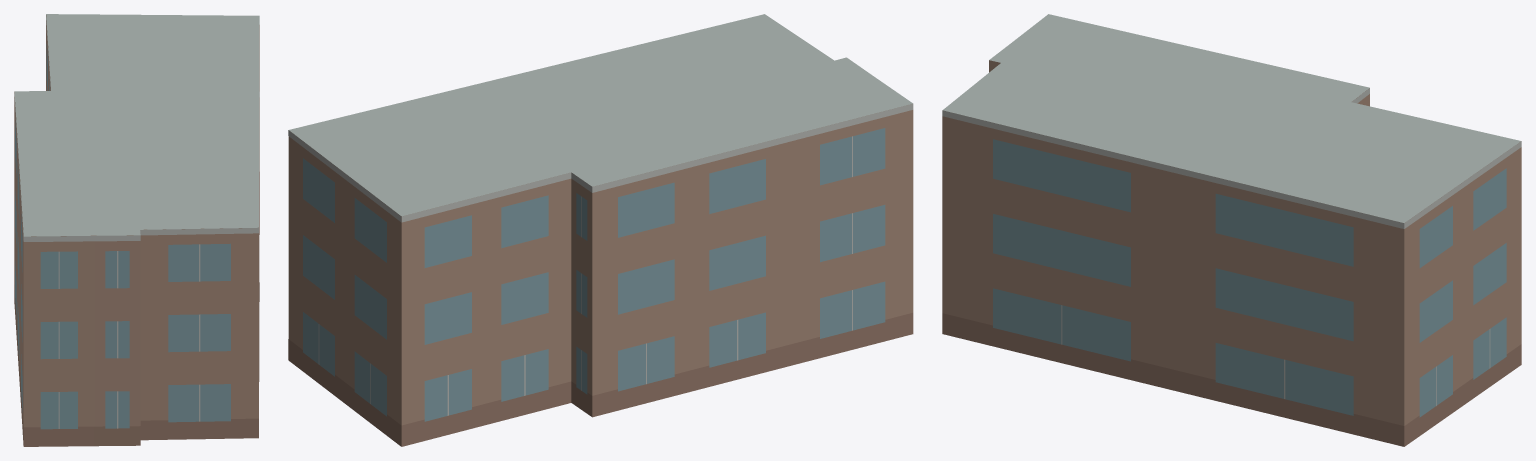
The model's file is survey-upis-32780977.glb.
3 renders of one model, left to right at view 1: azimuth 30°, elevation 25°; view 2: azimuth 150°, elevation 25°; view 3: azimuth 270°, elevation 25°, orthographic. The views are drawn at different scales.
Parts seen in each view (by area): view 1: survey-upis-32780977.tmp; view 2: survey-upis-32780977.tmp; view 3: survey-upis-32780977.tmp.
Part boxes in pixels (x1,y1,x2,y2): survey-upis-32780977.tmp: (14, 14, 259, 446); survey-upis-32780977.tmp: (288, 14, 913, 446); survey-upis-32780977.tmp: (942, 14, 1521, 446).
Size of the model in its own units: 18.36 by 9.15 by 21.48.
